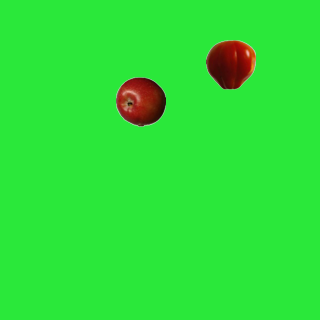Apple Braeburn: (115, 76, 165, 126)
Tomato 1: (205, 39, 255, 89)
